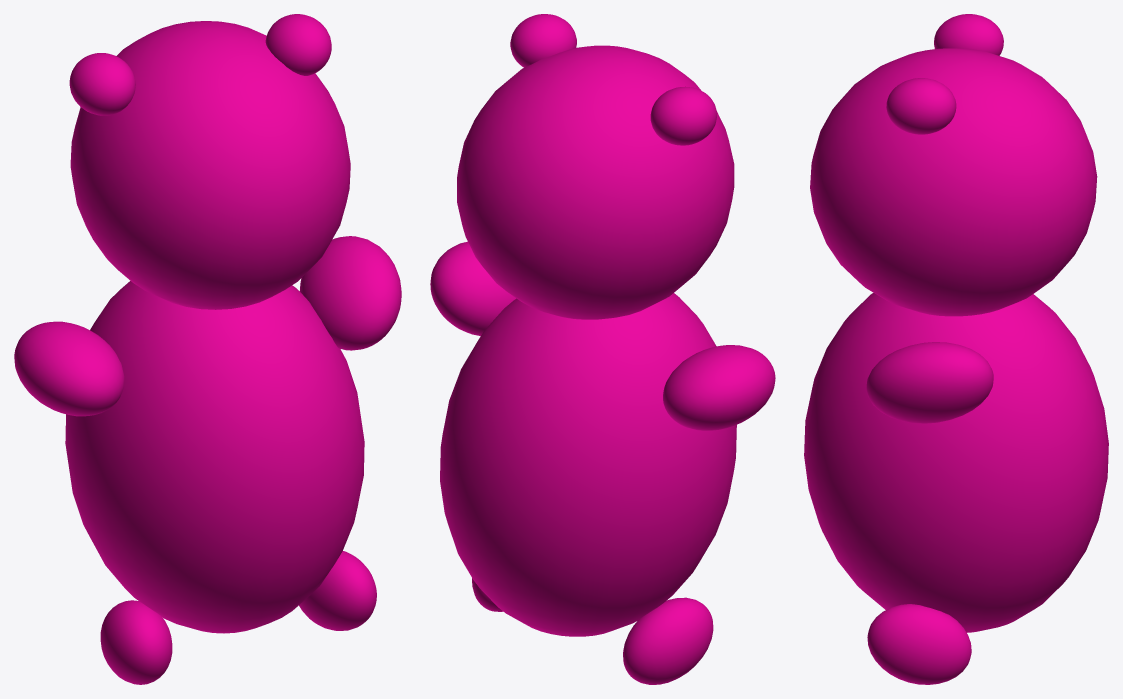
File: bear.glb
3 views of the same model, side by side, from view 1: azimuth 30°, elevation 25°; view 2: azimuth 150°, elevation 25°; view 3: azimuth 270°, elevation 25° (orthographic). The views are drawn at different scales.
Visible parts, largest first — view 1: Sphere.002; view 2: Sphere.002; view 3: Sphere.002.
Boxes of the visible parts, x1,y1,x2,y2 form: Sphere.002: [14, 14, 401, 684]; Sphere.002: [430, 14, 775, 684]; Sphere.002: [804, 14, 1108, 684].
Size of the model in its own units: 2.64 by 4.62 by 2.11.
